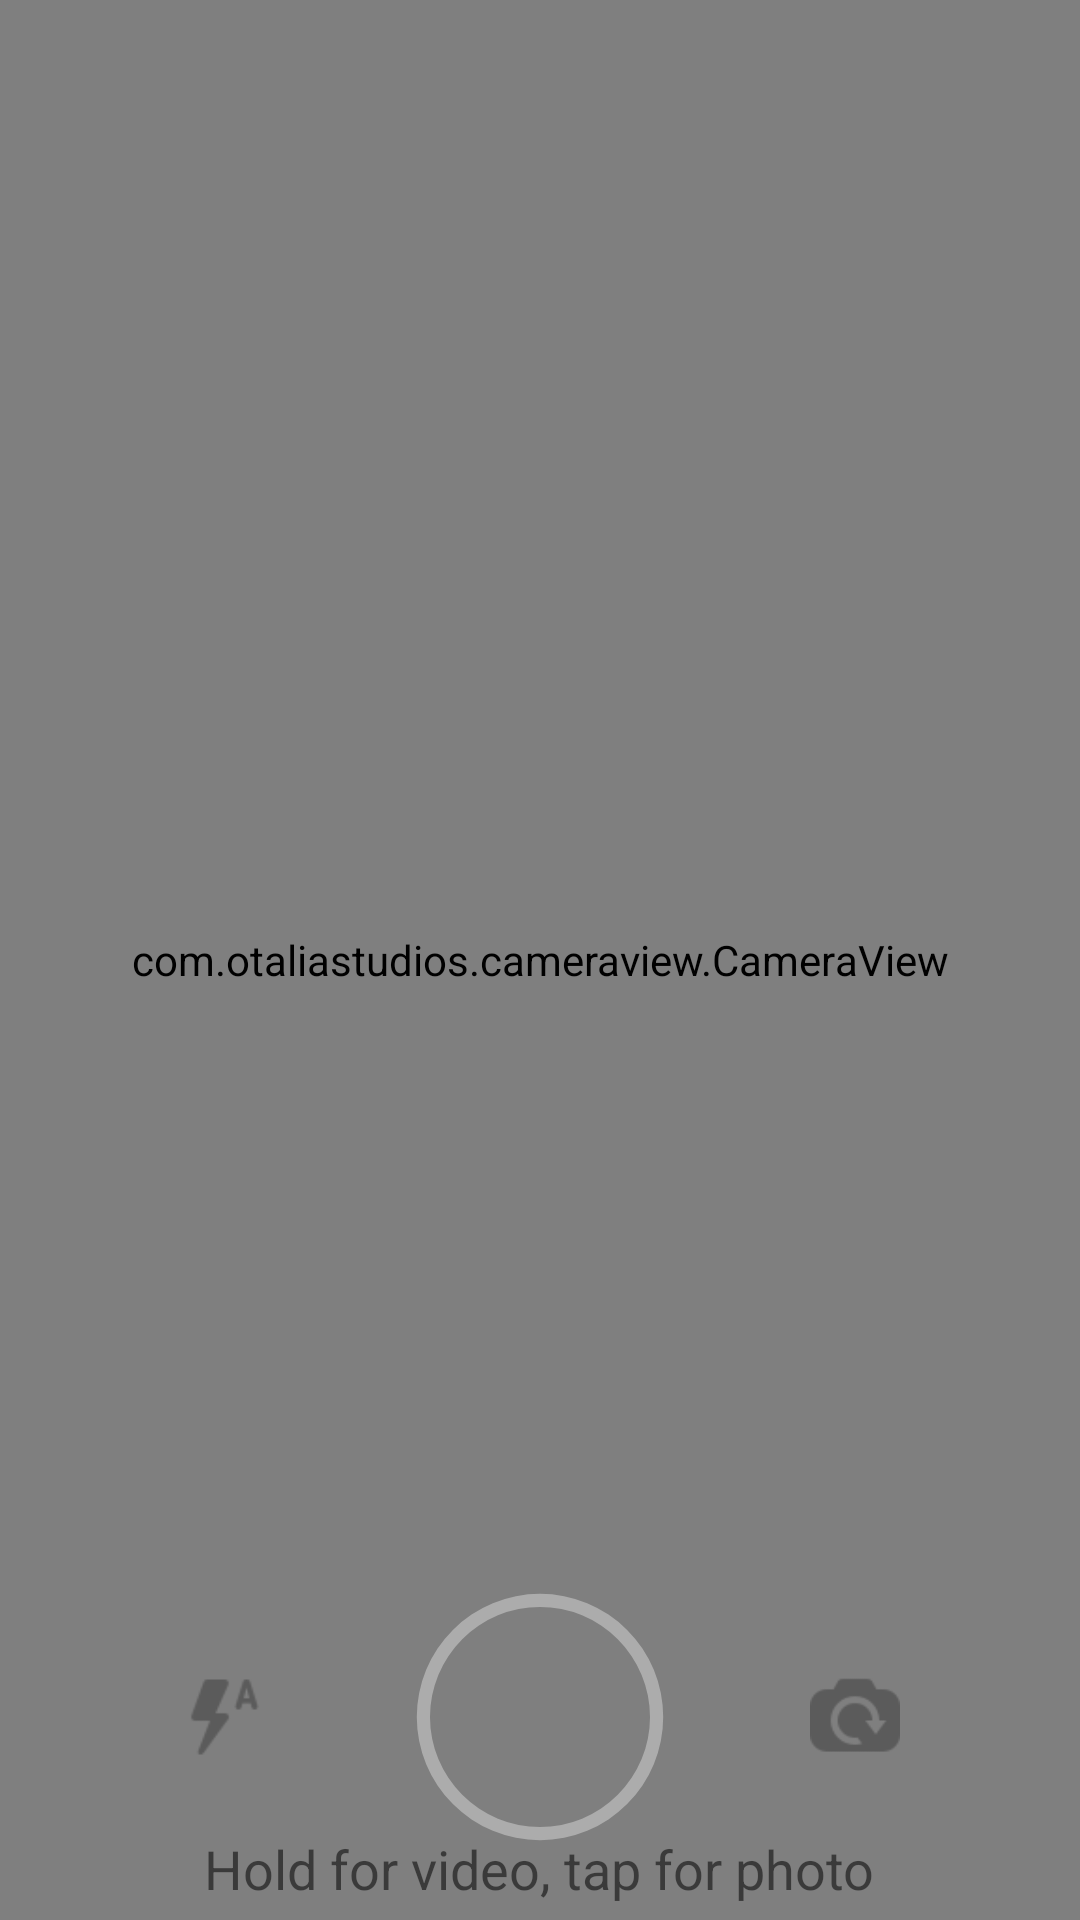

Icons on this 1080 × 1920 Android screen, each with the point to tap as point (x, y):
capture ring: point (540, 1725)
flash auto: point (224, 1717)
rotate camera: point (855, 1715)
